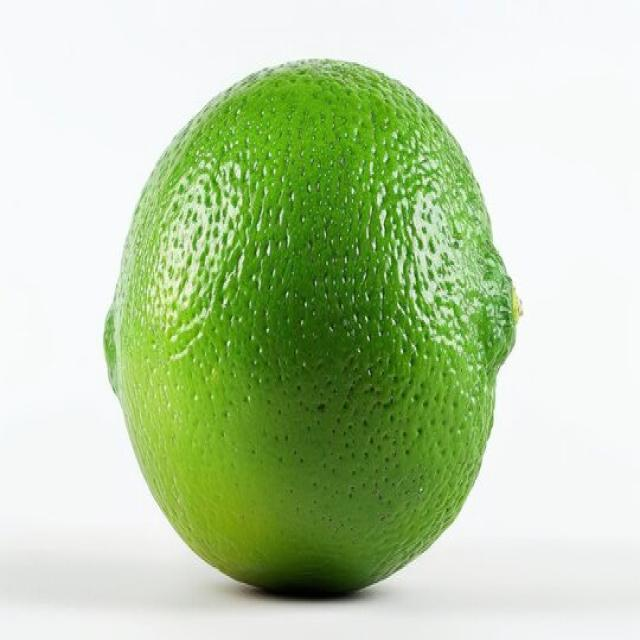Lemon: (102, 55, 523, 596)
